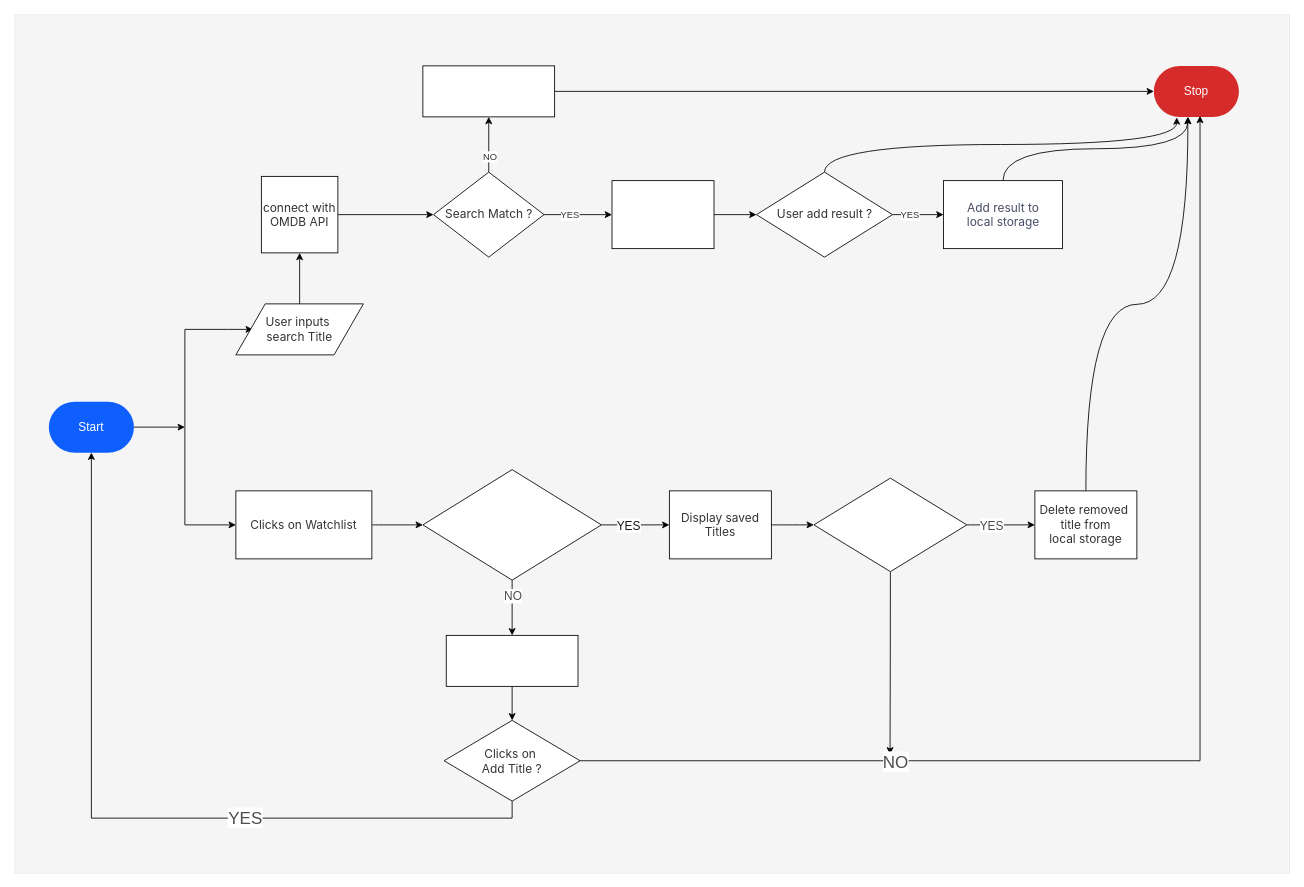
This 1304x887 diagram has some shape labels left out. Each missing label, with the centre of its shape:
"Display (No saved ti...) Show Add Title button" goes at [511,660].
"Display (unable to...)" goes at [488,91].
"Display search" goes at [662,214].
"Removed Title from watchlist ?" goes at [890,524].
"Title available in localstorage ?" goes at [511,524].
